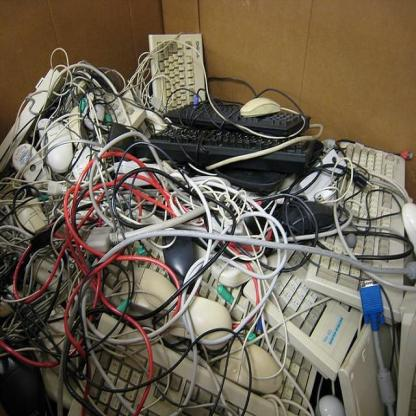wires: (1, 29, 415, 415)
